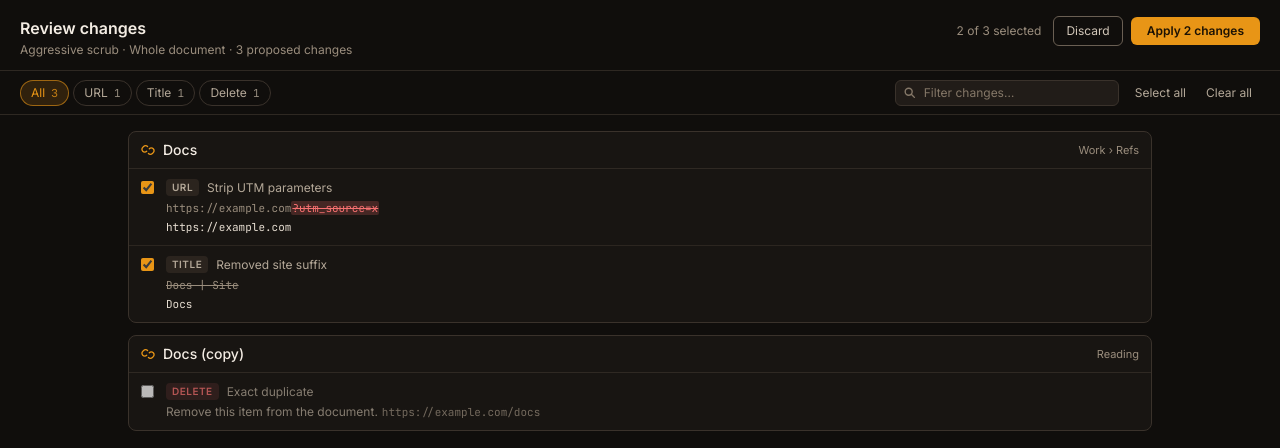
Test case: ReviewPane › names deletions on the Apply button once one is selected
The width and height of the screenshot is (1280, 448).
Click the checkbox named "Delete: Exact duplicate": (148, 392) [141,385,154,398]
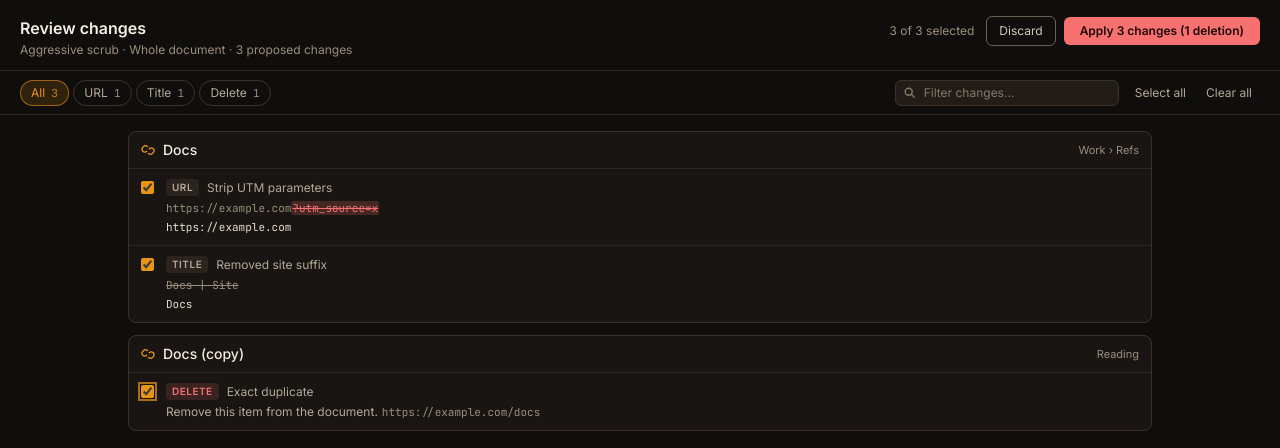
Now the button "Apply 3 changes (1 deletion)" is shown, box [1064,17,1260,45]
